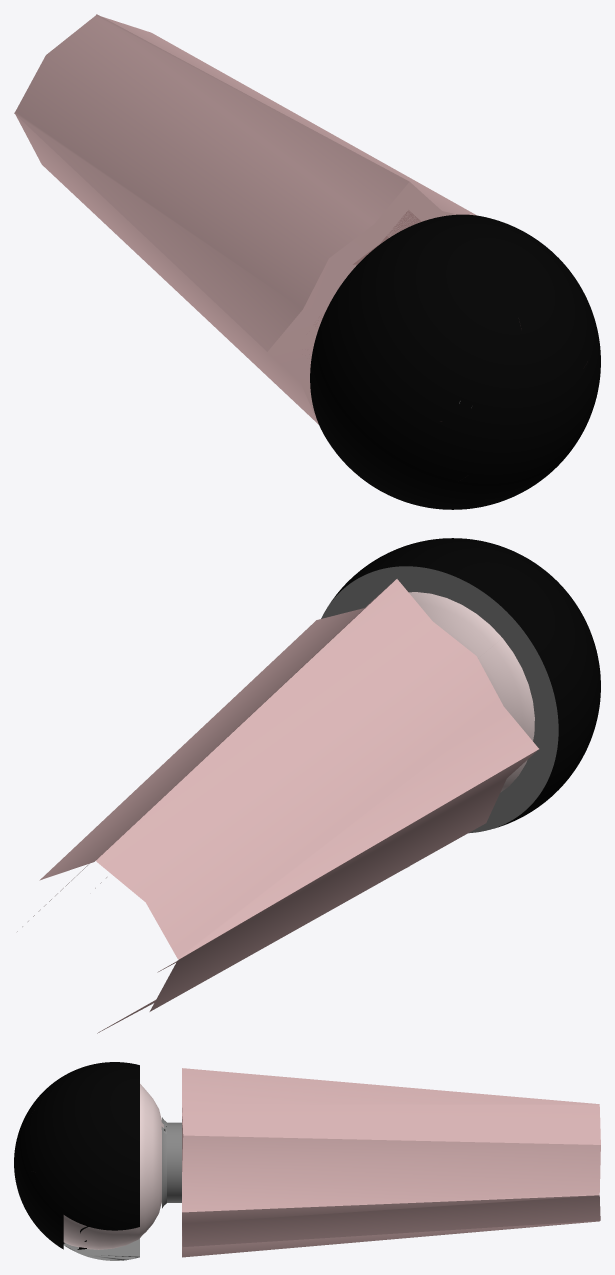
3 views of the same model, one above another, from view 1: azimuth 30°, elevation 25°; view 2: azimuth 150°, elevation 25°; view 3: azimuth 270°, elevation 25° (orthographic). The views are drawn at different scales.
Visible parts, largest first — view 1: _3DGeom12; view 2: _3DGeom12; view 3: _3DGeom12.
Boxes of the visible parts, x1=… form: _3DGeom12: x1=14, y1=14, x2=600, y2=509; _3DGeom12: x1=17, y1=538, x2=600, y2=1033; _3DGeom12: x1=14, y1=1062, x2=600, y2=1260.
Bounding box in the file's own units: 8.09 × 8.09 × 22.22.
1 material, 1 textured.
